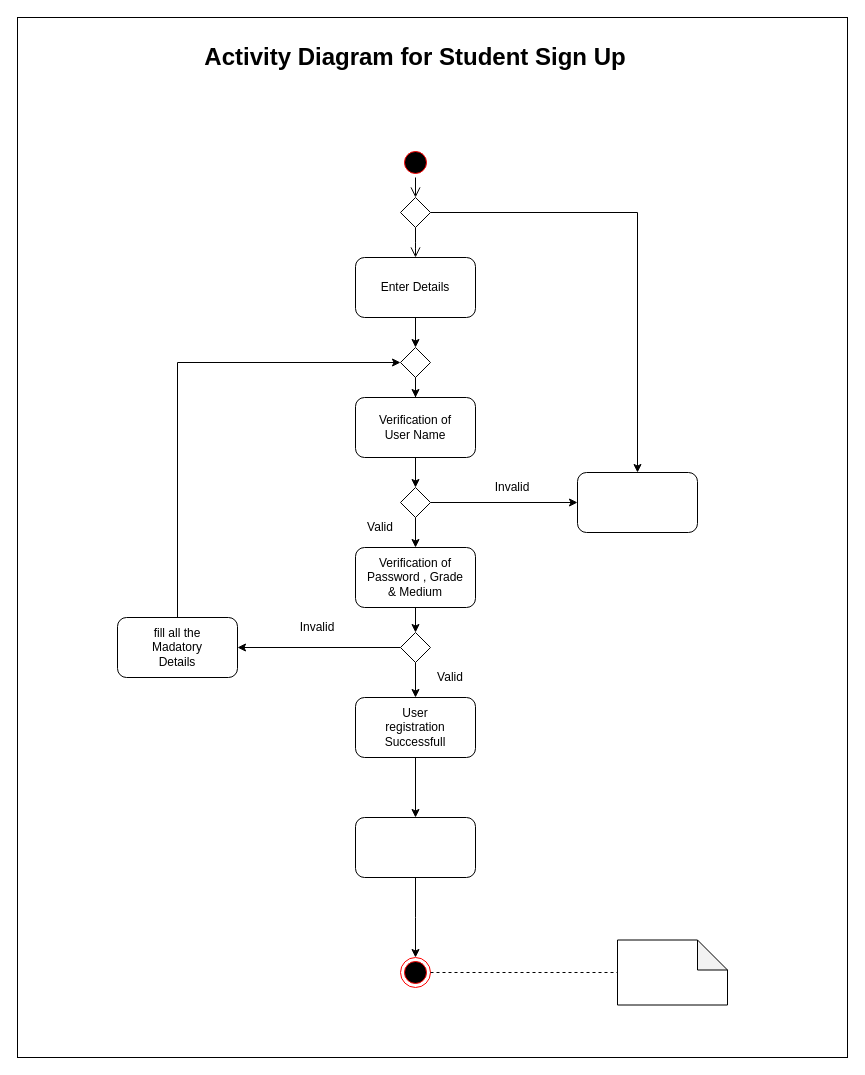
Image size: 865x1075. Some labels were removed from this diagram. The shapes that lost their labels are listed below. From the top down, each one's centre as x and y in pixels, then its label:
At pixel 637 502: "User Already Exist".
At pixel 415 847: "Go to Login Page".
At pixel 672 972: "Check Login Details".
